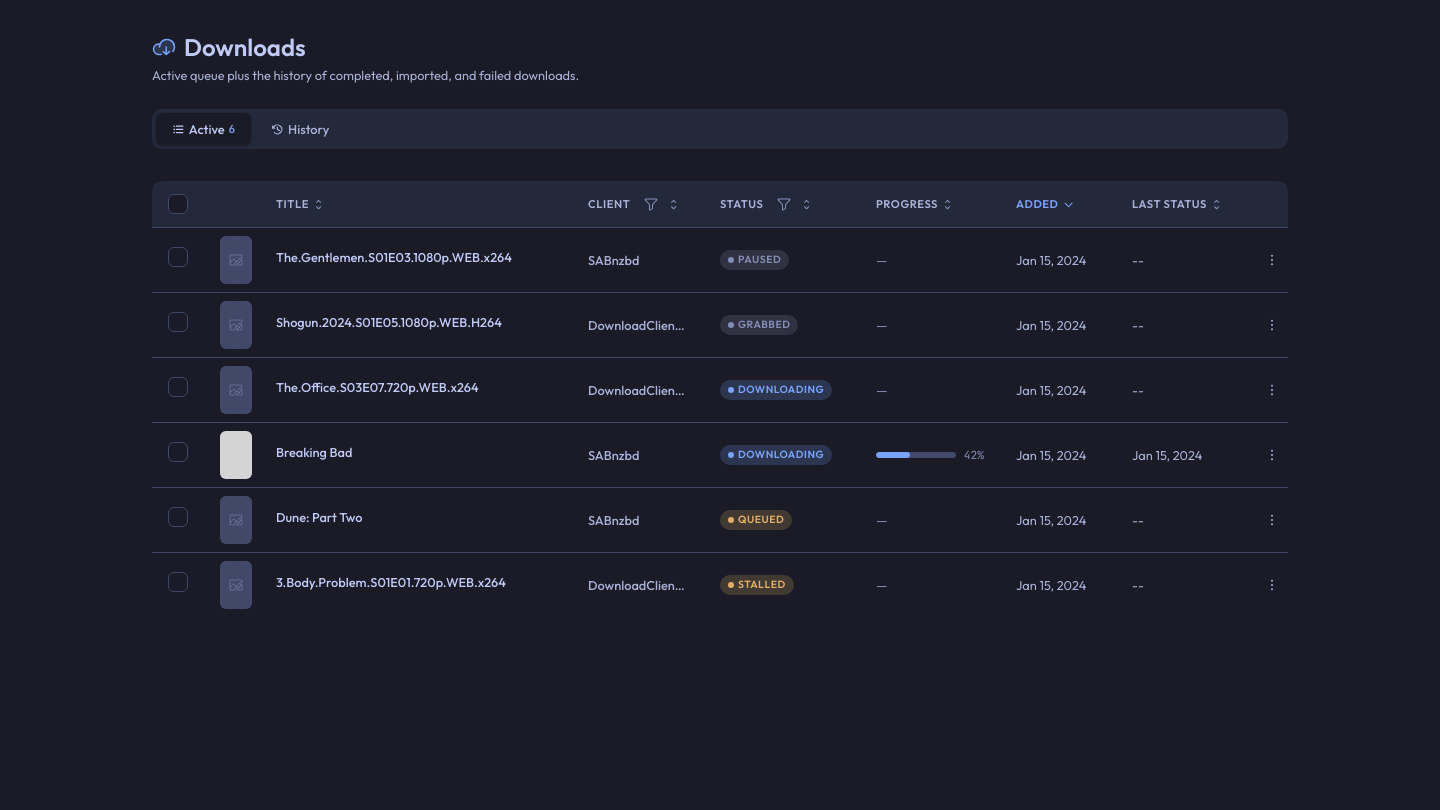
Test: DownloadsPage table columns › opens a local preview without leaving downloads when the title is clicked
Click the link "Breaking Bad": (314, 452) [276,443,352,462]
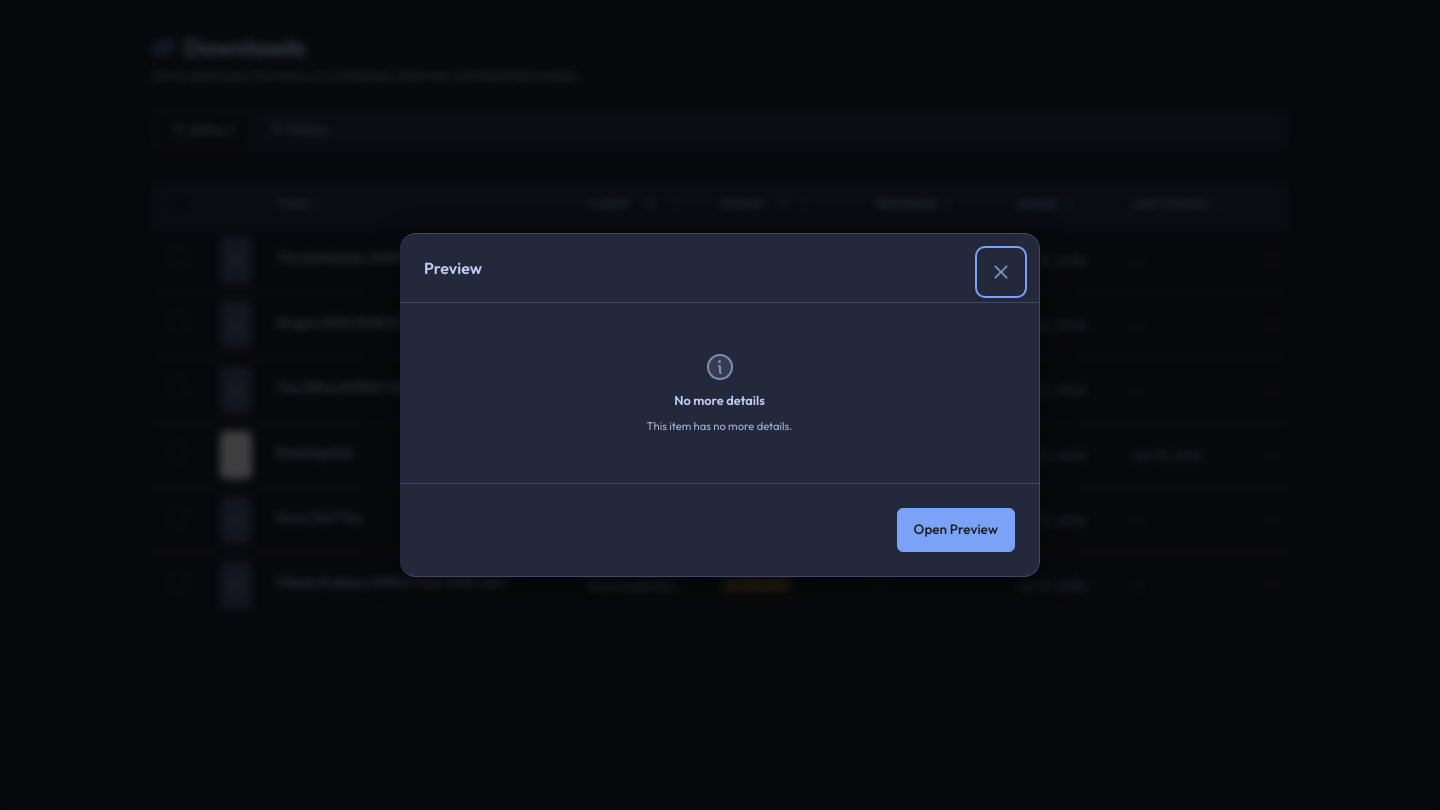
Expected: the dialog with test id "preview-drawer" is shown, [400,233,1040,577]
